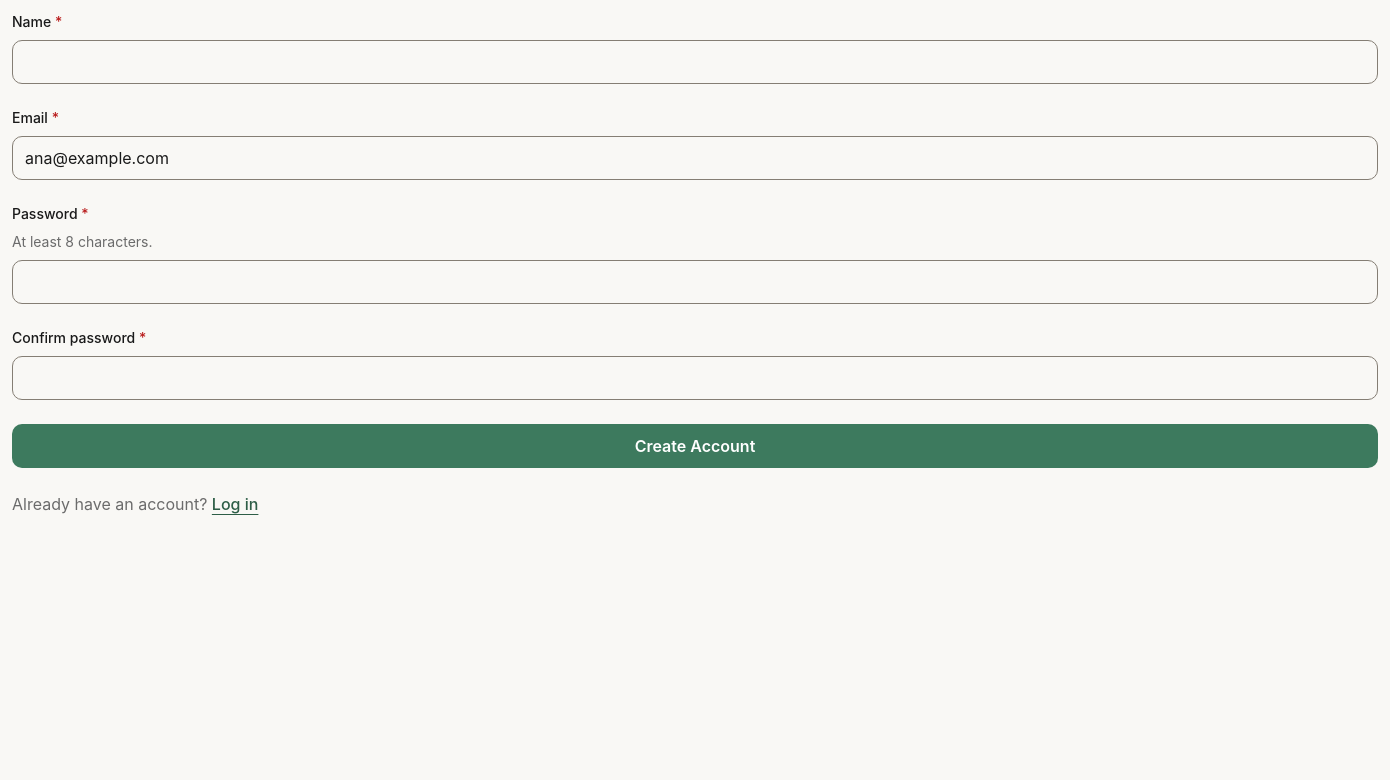
Scenario: SignUpForm › explains a failed robot check or limit, and retries with a fresh token
The image size is (1390, 780).
Type "Ana" into the field labelled "Name *". click: (695, 62)
box: [12,40,1378,84]
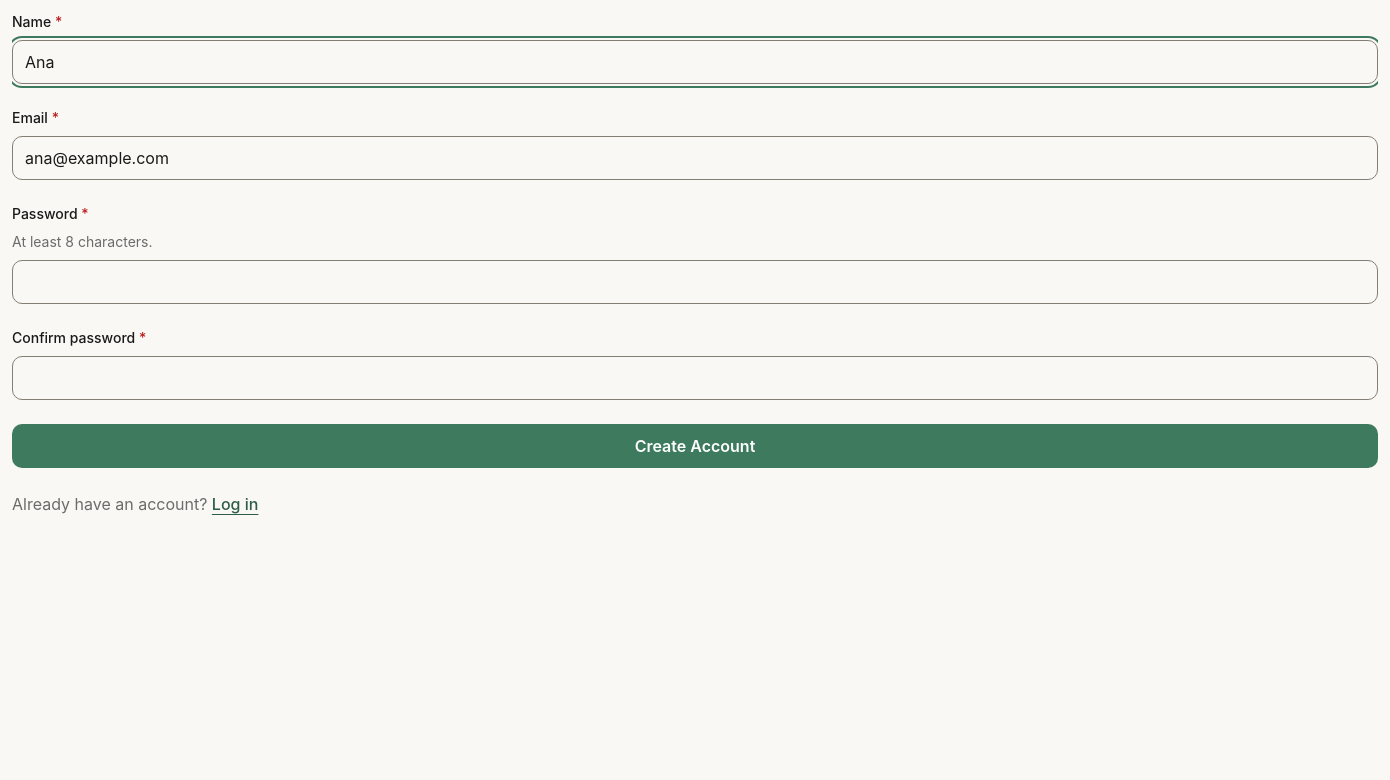
Type "correct-horse" into the password field labelled "Password *". click: (695, 282)
box: [12,260,1378,304]
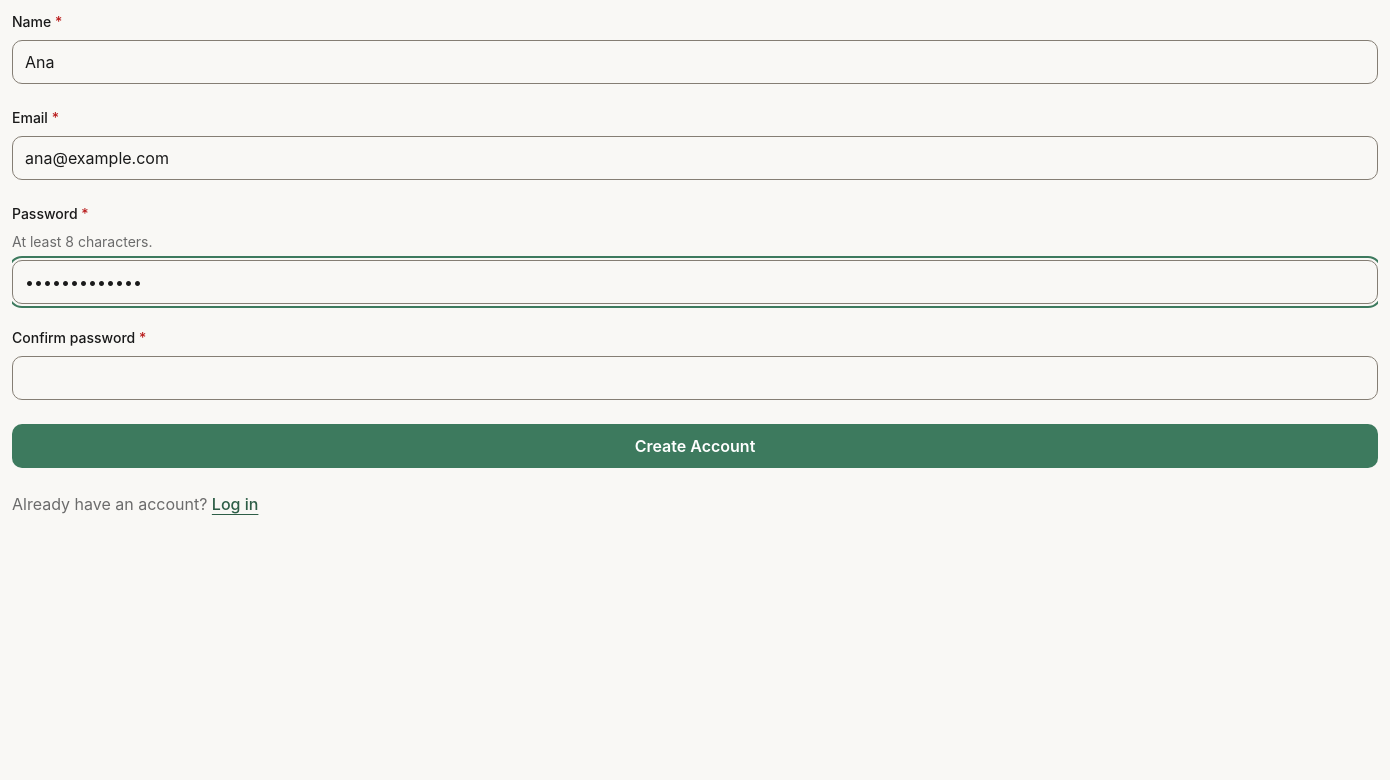
Type "correct-horse" into the password field labelled "Confirm password *". click: (695, 378)
box: [12,356,1378,400]
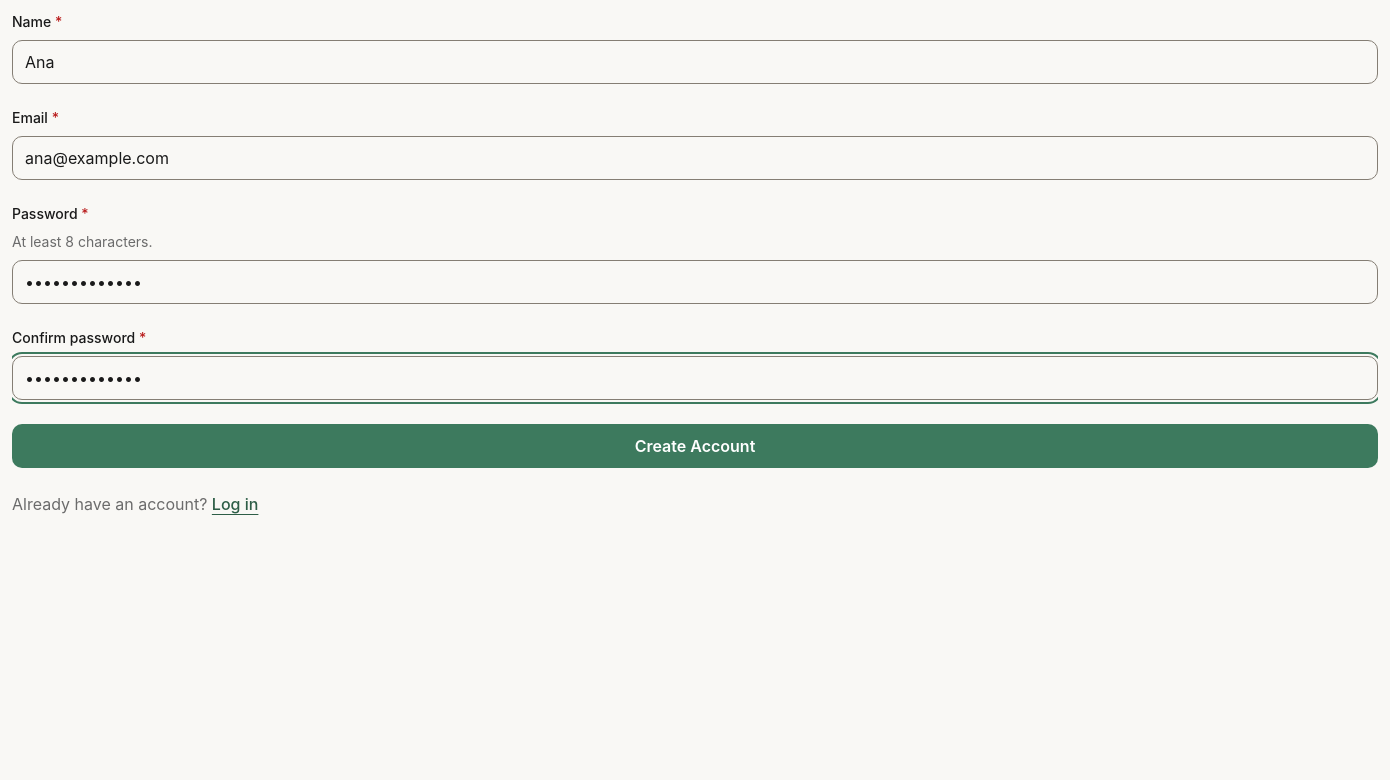
Click the button "Create Account". click: click(695, 446)
box: [12,424,1378,468]
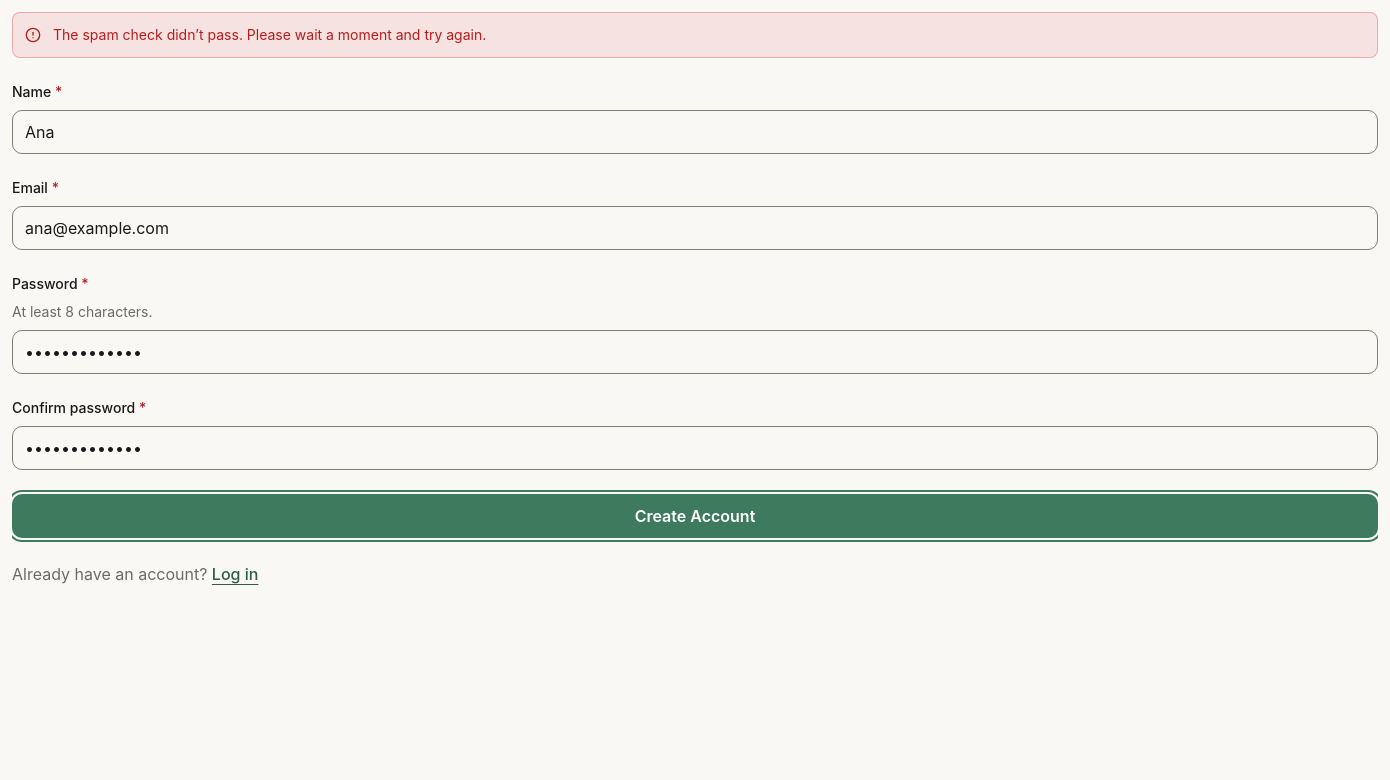
expect the message shows "spam check": met, box [53,26,486,43]
Click the button "Create Account". click: click(695, 516)
box: [12,494,1378,538]
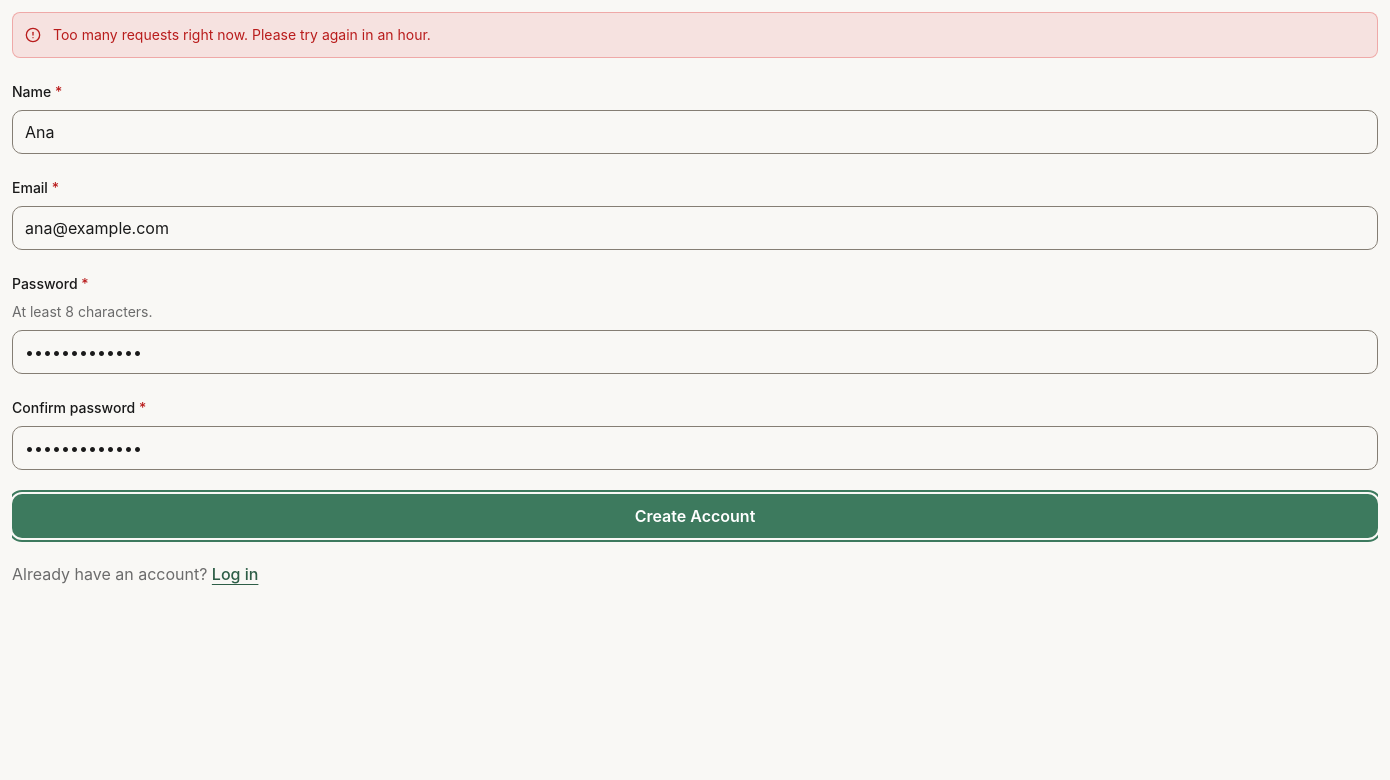
expect the message shows "try again in an hour": met, box [53,26,431,43]
